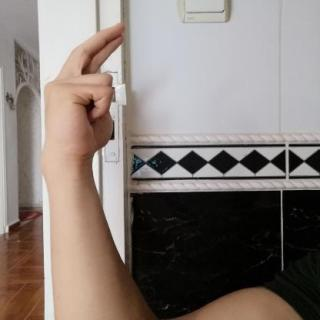ZAY: (33, 17, 136, 166)
